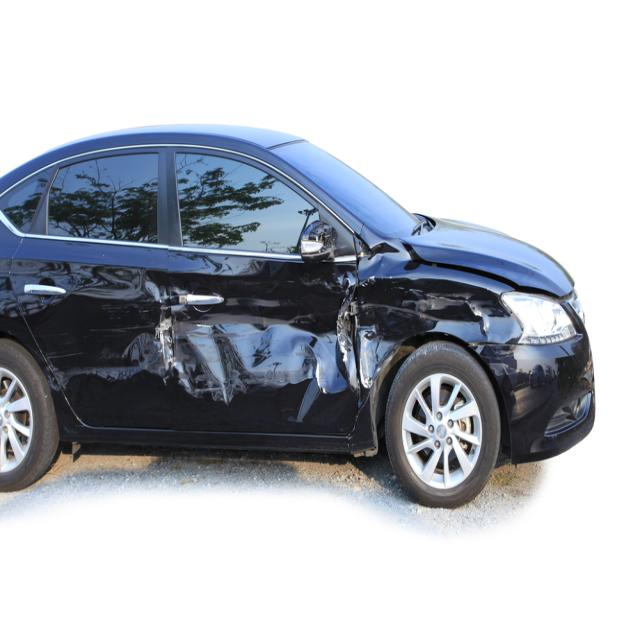dent: (170, 270, 359, 420), (357, 272, 521, 389), (56, 304, 169, 389)
